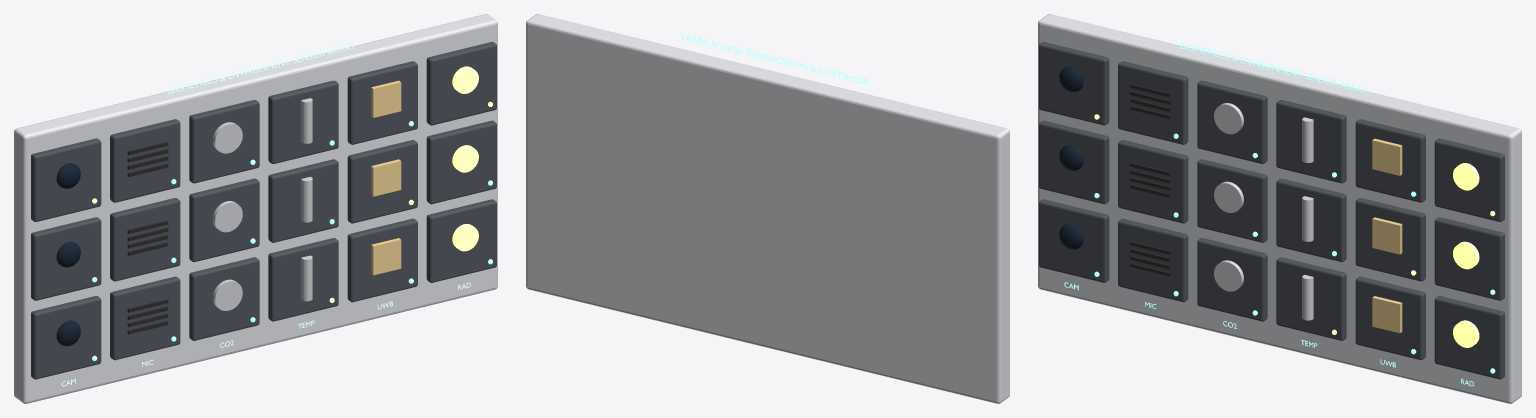
Rendered from sensor_wall.glb.
The picture shows the model from 3 angles, left to right: view 1: azimuth 30°, elevation 25°; view 2: azimuth 150°, elevation 25°; view 3: azimuth 330°, elevation 25°; orthographic projection.
Parts seen in each view (by area): view 1: Array_Backplate, Tile_TEMP, Tile_TEMP.001, Tile_TEMP.002, Tile_CAM, Tile_CAM.001, Tile_CAM.002, Tile_RAD.001, Tile_RAD.002, Tile_RAD, Tile_MIC.002, Tile_MIC.001 (+23 smaller); view 2: Array_Backplate, Array_Title; view 3: Array_Backplate, Tile_TEMP.001, Tile_TEMP, Tile_TEMP.002, Tile_CAM, Tile_CAM.001, Tile_CAM.002, Tile_RAD.001, Tile_RAD.002, Tile_RAD, Tile_MIC, Tile_MIC.001 (+23 smaller).
Boxes of the visible parts, x1,y1,x2,y2 form: Array_Backplate: (14,14,497,403); Tile_TEMP: (268,80,338,163); Tile_TEMP.001: (268,159,338,242); Tile_TEMP.002: (268,238,338,321); Tile_CAM: (31,138,101,221); Tile_CAM.001: (31,217,101,300); Tile_CAM.002: (31,296,101,379); Tile_RAD.001: (426,120,496,204); Tile_RAD.002: (426,199,496,282); Tile_RAD: (426,42,496,125); Tile_MIC.002: (110,276,180,360); Tile_MIC.001: (110,198,180,281); Array_Backplate: (526,14,1009,403); Array_Title: (680,33,866,84); Array_Backplate: (1038,14,1521,403); Tile_TEMP.001: (1276,178,1346,262); Tile_TEMP: (1276,100,1346,183); Tile_TEMP.002: (1276,257,1346,340); Tile_CAM: (1039,42,1109,125); Tile_CAM.001: (1039,120,1109,204); Tile_CAM.002: (1039,199,1109,282); Tile_RAD.001: (1434,217,1504,300); Tile_RAD.002: (1434,296,1504,379); Tile_RAD: (1434,138,1504,221); Tile_MIC: (1118,61,1188,144); Tile_MIC.001: (1118,140,1188,223).
Size of the model in its own units: 2.4 by 1.37 by 0.176.
